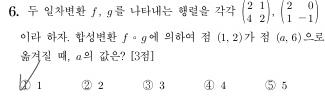choice: (16, 73, 33, 92)
not-choice: (263, 78, 276, 91), (80, 78, 92, 91), (141, 78, 153, 91), (202, 78, 214, 91)
